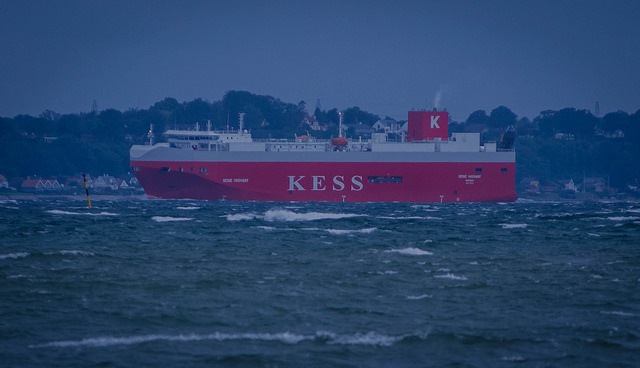PCC: (125, 109, 520, 208)
